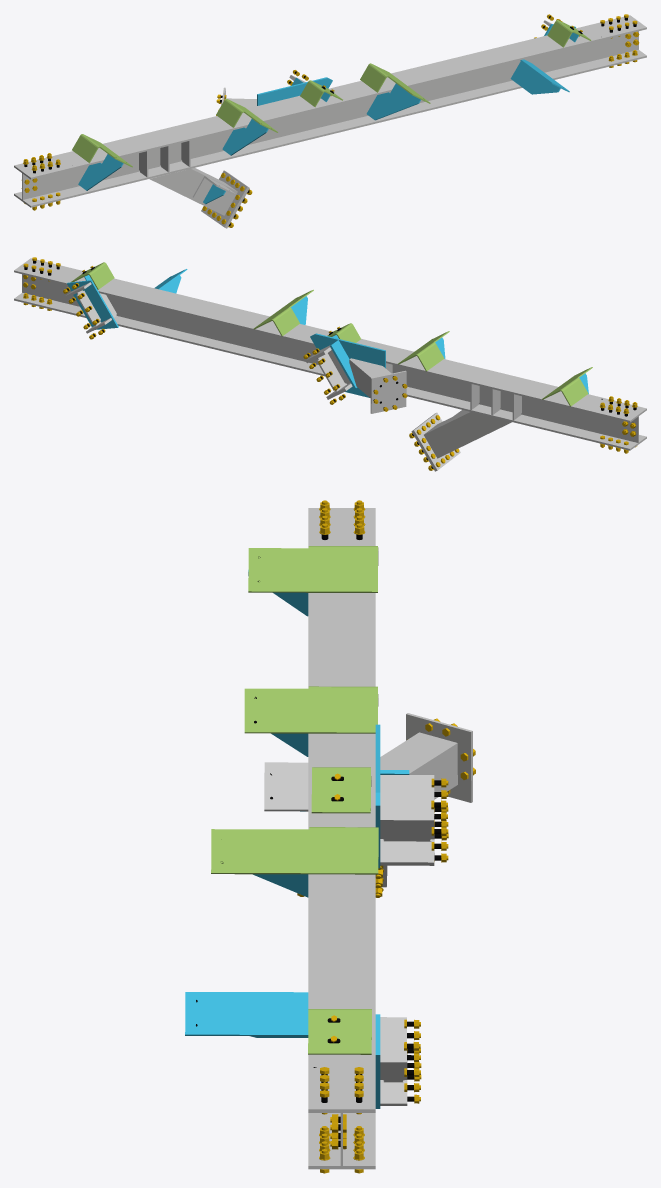
Rendered from assembly.gltf.
3 views of the same model, one above another, from view 1: azimuth 30°, elevation 25°; view 2: azimuth 150°, elevation 25°; view 3: azimuth 270°, elevation 25° (orthographic). The views are drawn at different scales.
Size of the model in its own units: 7.83 by 1.37 by 1.6.
